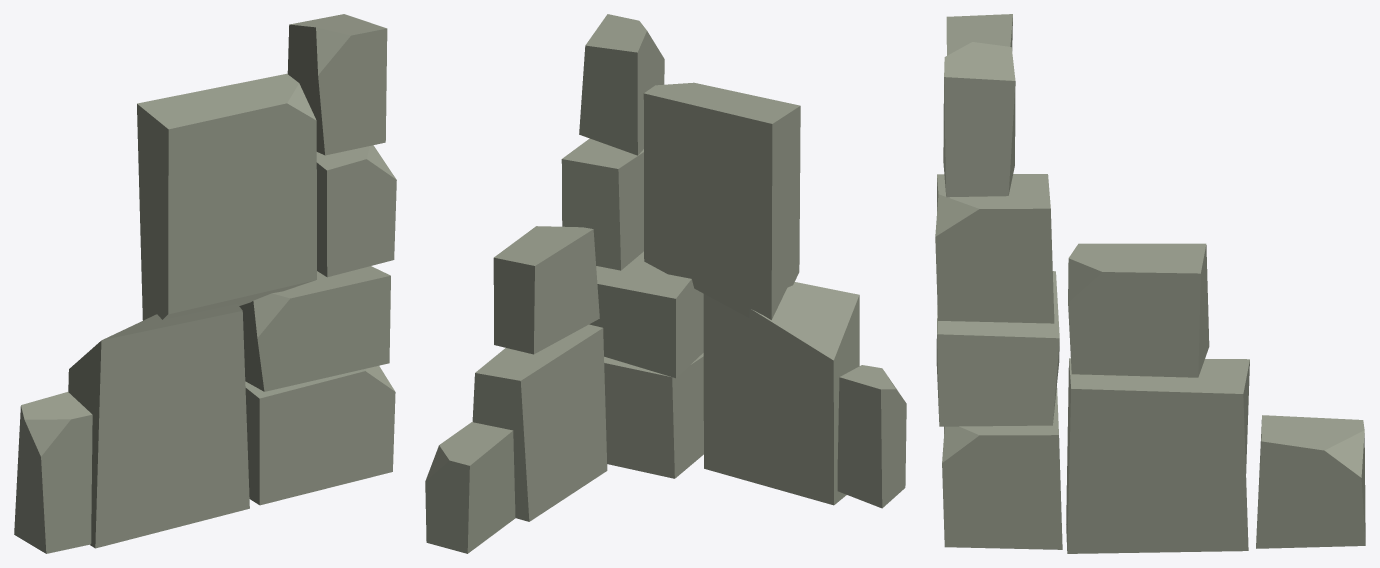
Rendered from edge_decor4.fbx.
3 renders of one model, left to right at view 1: azimuth 30°, elevation 25°; view 2: azimuth 150°, elevation 25°; view 3: azimuth 270°, elevation 25°, orthographic. The views are drawn at different scales.
Visible parts, largest first — view 1: edge_decor4; view 2: edge_decor4; view 3: edge_decor4.
Part boxes in pixels (box(x1,y1,x2,y2)): edge_decor4: box(14, 14, 396, 553); edge_decor4: box(425, 14, 906, 553); edge_decor4: box(935, 14, 1365, 553).
Bounding box in the file's own units: 3.87 × 3.89 × 4.82.
